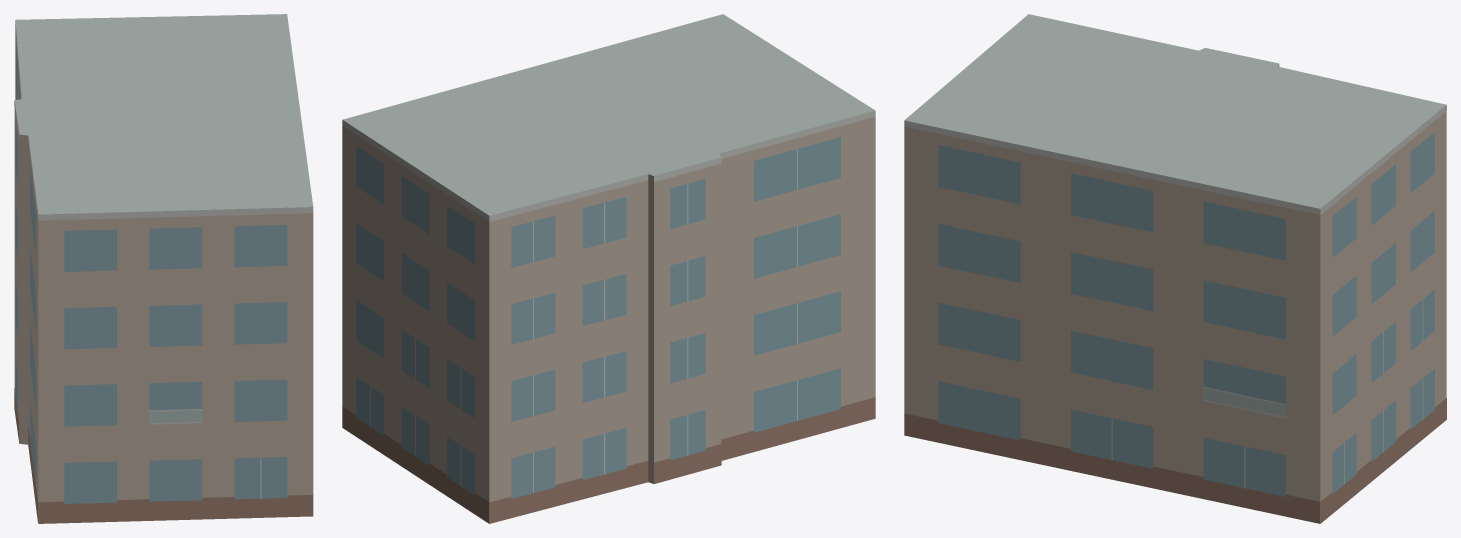
Rendered from survey-upis-32887765.glb.
3 renders of one model, left to right at view 1: azimuth 30°, elevation 25°; view 2: azimuth 150°, elevation 25°; view 3: azimuth 270°, elevation 25°, orthographic. The views are drawn at different scales.
Parts seen in each view (by area): view 1: survey-upis-32887765.tmp; view 2: survey-upis-32887765.tmp; view 3: survey-upis-32887765.tmp.
Part boxes in pixels (bbox=[...]): survey-upis-32887765.tmp: bbox=[14, 14, 313, 523]; survey-upis-32887765.tmp: bbox=[342, 14, 875, 523]; survey-upis-32887765.tmp: bbox=[904, 14, 1446, 523].
Size of the model in its own units: 16.19 by 12.2 by 19.05.
